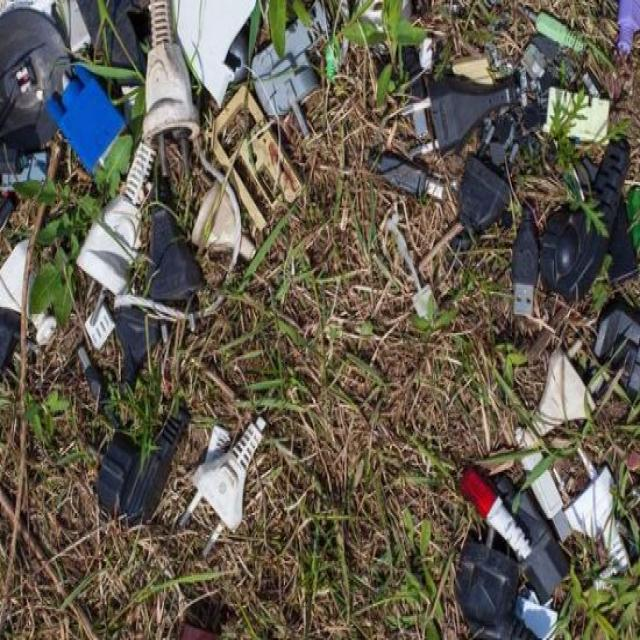electronic: (74, 0, 287, 557)
